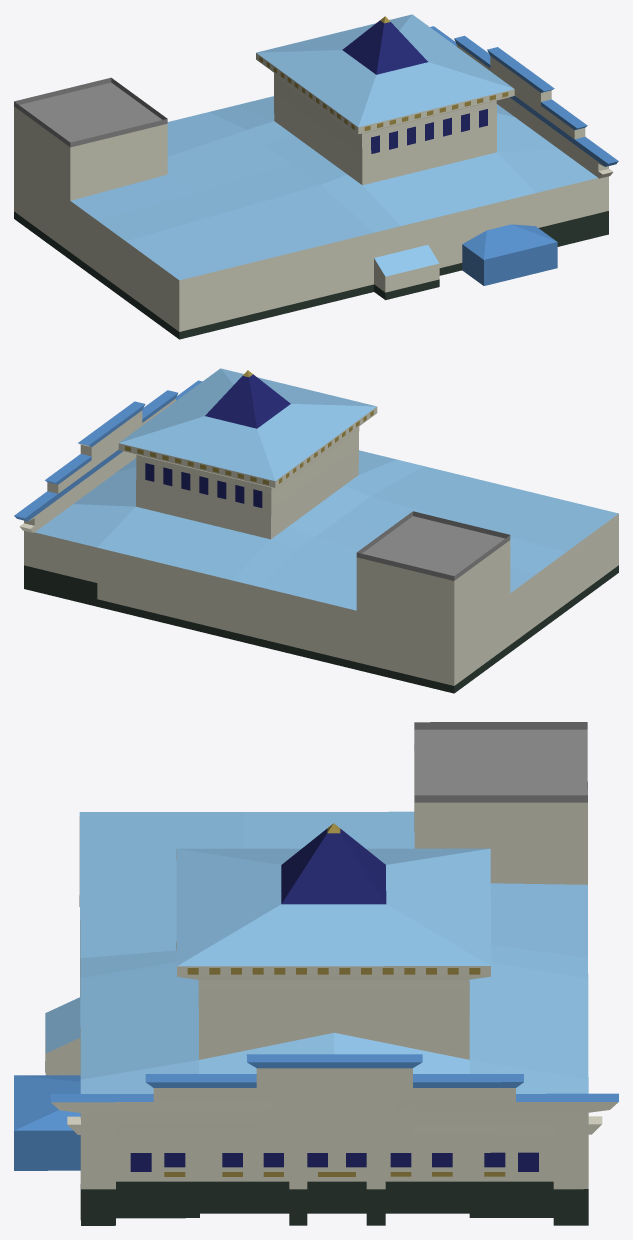
The model's file is Театр.glb.
The picture shows the model from 3 angles, top to bottom: view 1: azimuth 30°, elevation 25°; view 2: azimuth 150°, elevation 25°; view 3: azimuth 270°, elevation 25°; orthographic projection. The views are drawn at different scales.
Visible parts, largest first — view 1: 87743368; view 2: 87743368; view 3: 87743368.
Part boxes in pixels (box(x1,y1,x2,y2)): 87743368: box(14, 14, 618, 339); 87743368: box(14, 368, 618, 693); 87743368: box(14, 722, 618, 1225).
Bounding box in the file's own units: 119 × 50.76 × 93.91.
